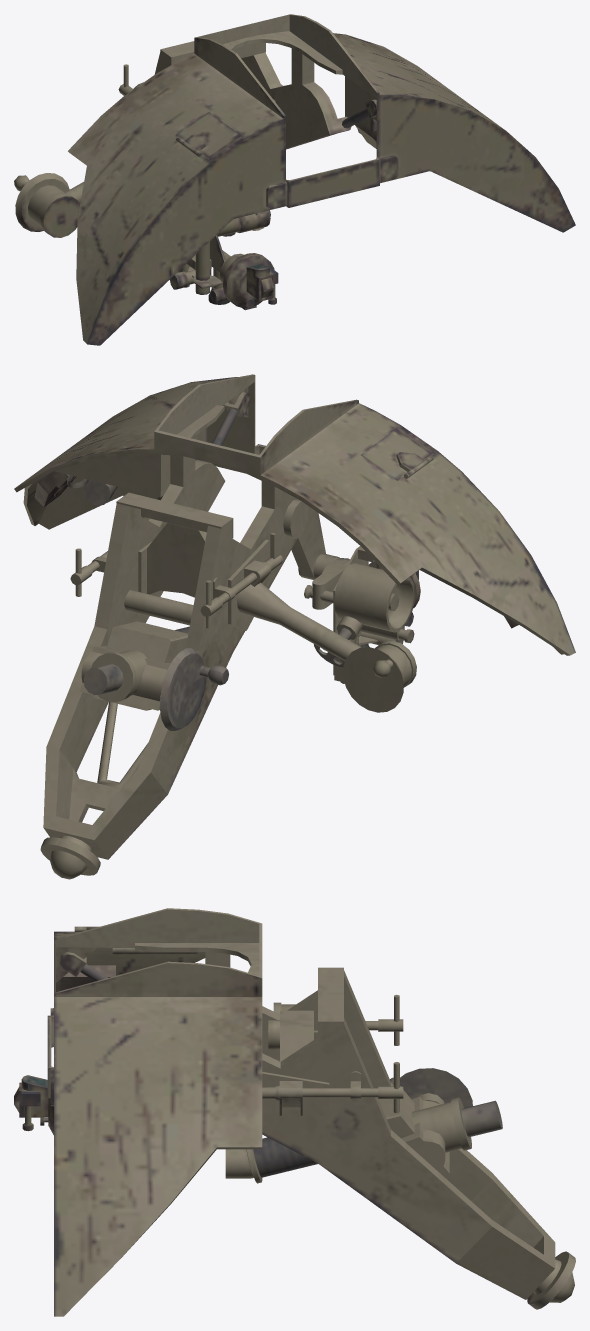
The model's file is Turret_01.glb.
3 renders of one model, top to bottom at view 1: azimuth 30°, elevation 25°; view 2: azimuth 150°, elevation 25°; view 3: azimuth 270°, elevation 25°, orthographic. The views are drawn at different scales.
Visible parts, largest first — view 1: set_0_group_0; view 2: set_0_group_0; view 3: set_0_group_0.
Boxes of the visible parts, x1,y1,x2,y2 form: set_0_group_0: (14, 14, 575, 345); set_0_group_0: (14, 374, 575, 879); set_0_group_0: (14, 908, 575, 1316).
Bounding box in the file's own units: 1.38 × 0.8566 × 1.18.
1 material, 1 textured.
